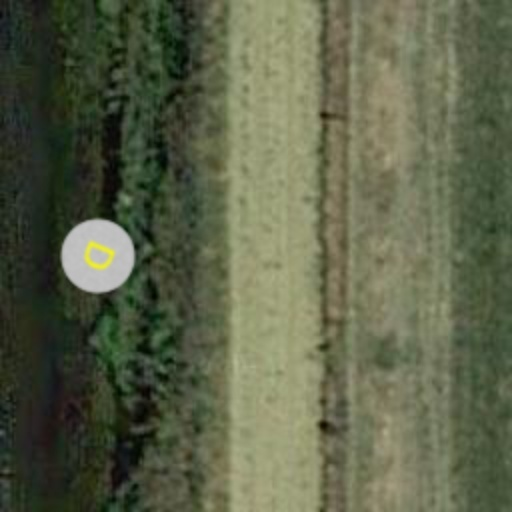circle: (48, 206, 148, 306)
